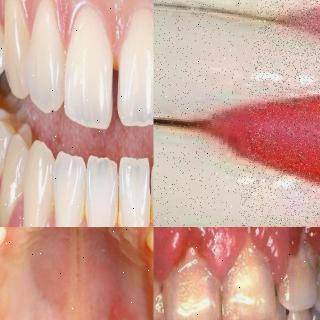Gum Swelling: (212, 29, 320, 227), (154, 227, 306, 289)
calculus: (226, 242, 276, 294), (167, 255, 211, 307), (290, 237, 318, 280), (108, 189, 130, 227), (76, 197, 100, 227), (144, 193, 154, 227)
